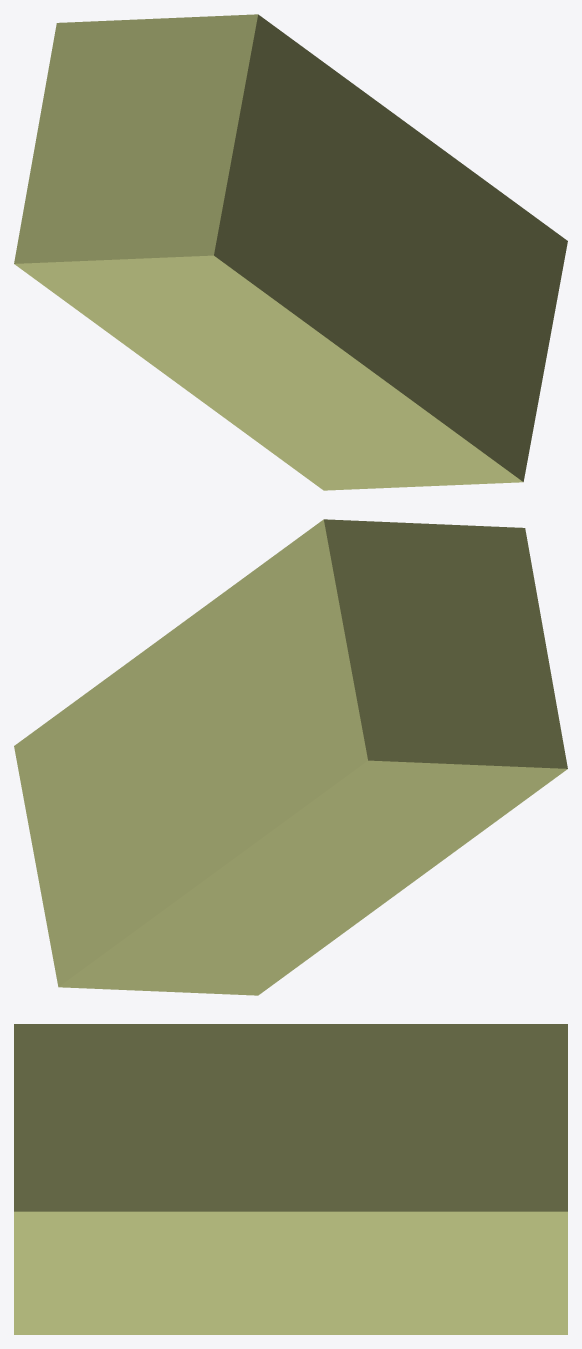
The picture shows the model from 3 angles, top to bottom: view 1: azimuth 30°, elevation 25°; view 2: azimuth 150°, elevation 25°; view 3: azimuth 270°, elevation 25°; orthographic projection. The views are drawn at different scales.
Visible parts, largest first — view 1: 0_1_2_0_3_3_2_0_1_2_0_0; view 2: 0_1_2_0_3_3_2_0_1_2_0_0; view 3: 0_1_2_0_3_3_2_0_1_2_0_0.
Boxes of the visible parts, left/top/right/bottom form: 0_1_2_0_3_3_2_0_1_2_0_0: left=14, top=14, right=567, bottom=490; 0_1_2_0_3_3_2_0_1_2_0_0: left=14, top=519, right=567, bottom=995; 0_1_2_0_3_3_2_0_1_2_0_0: left=14, top=1024, right=567, bottom=1334.
Bounding box in the file's own units: 4.1 × 4.34 × 9.
